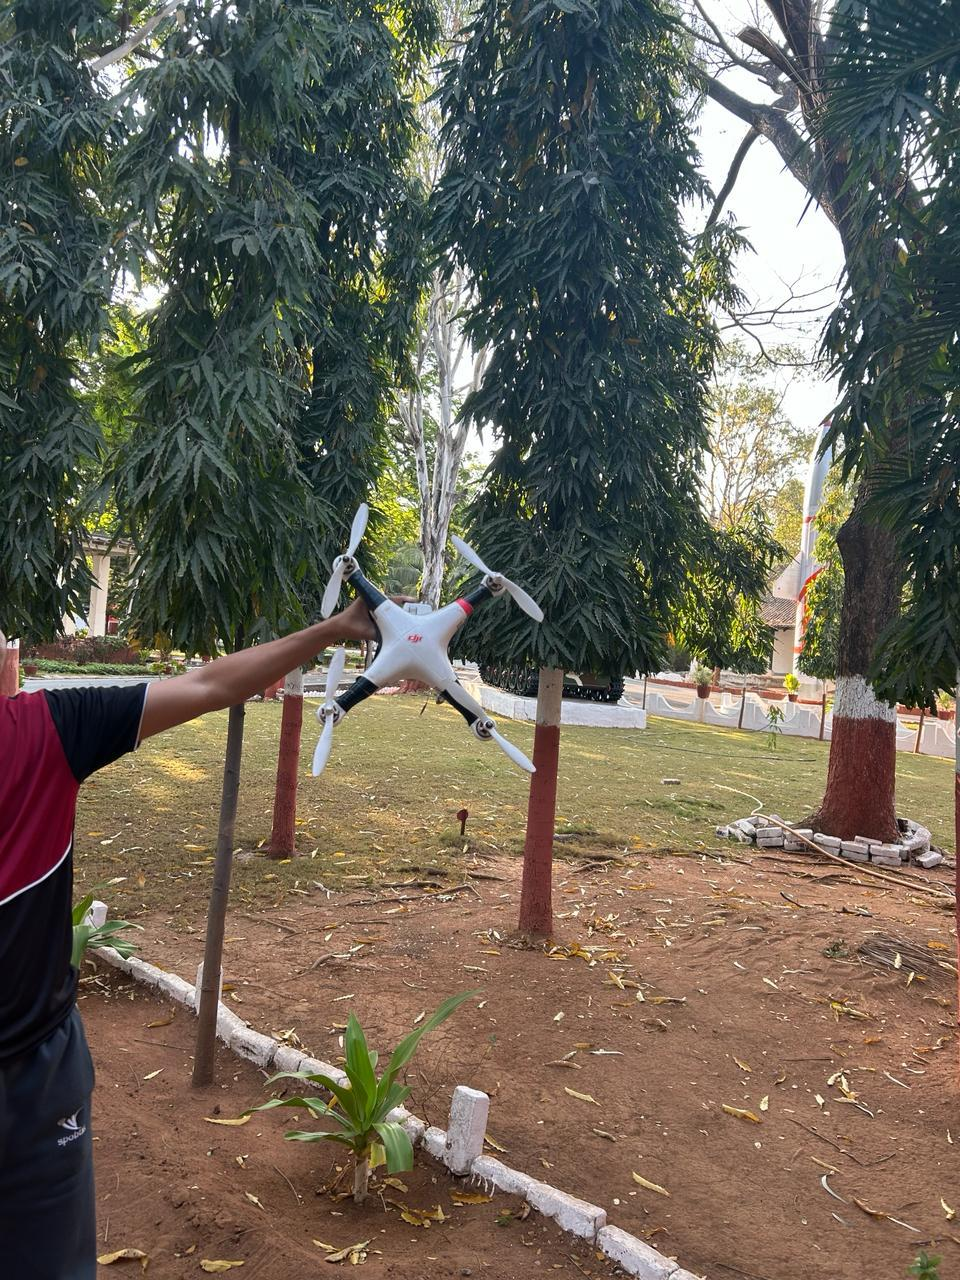drone: (257, 468, 599, 794)
